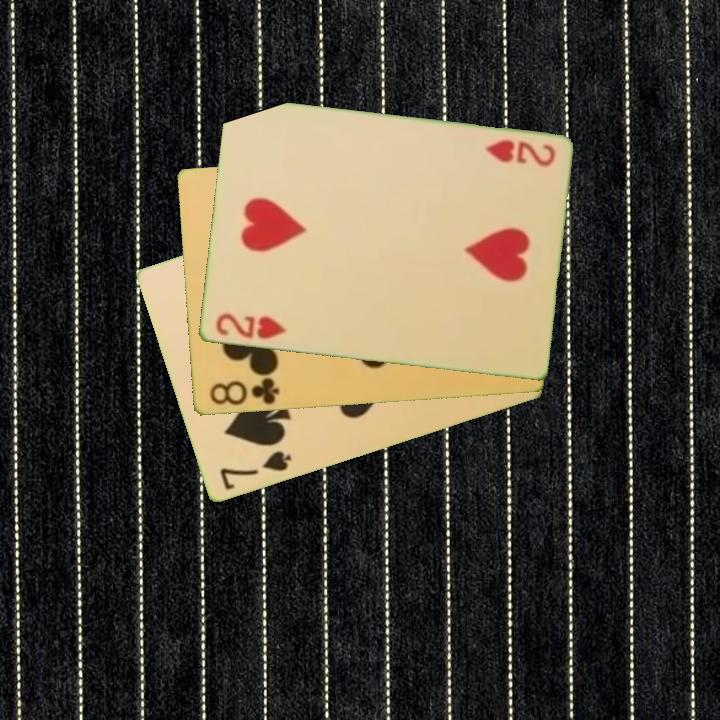2h: (482, 136, 557, 170), (212, 310, 288, 342)
7s: (216, 447, 294, 494)
8c: (206, 375, 282, 409)
